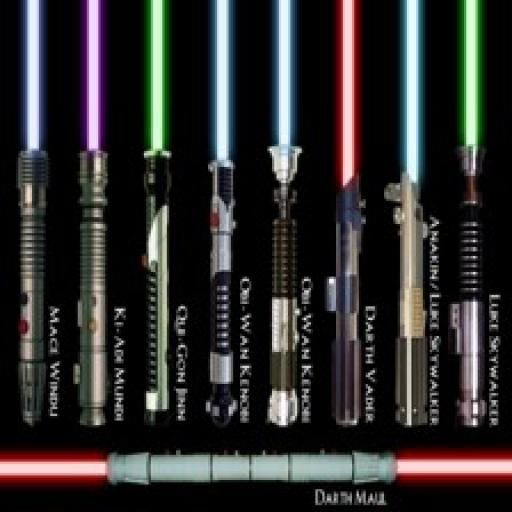lightsaber: (385, 0, 428, 426), (450, 0, 488, 429), (78, 0, 111, 429), (269, 0, 300, 426), (16, 0, 46, 423), (142, 0, 171, 421), (208, 0, 236, 424)
sith saber: (0, 452, 512, 486), (327, 0, 366, 427)
